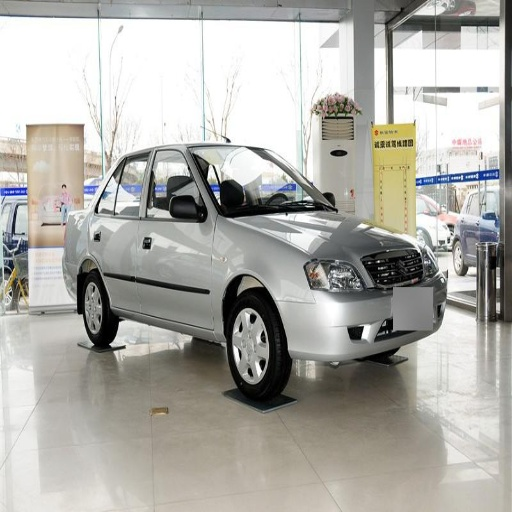front_bumper: (279, 255, 445, 361)
front_right_door: (139, 148, 212, 328)
front_right_light: (304, 258, 364, 295)
